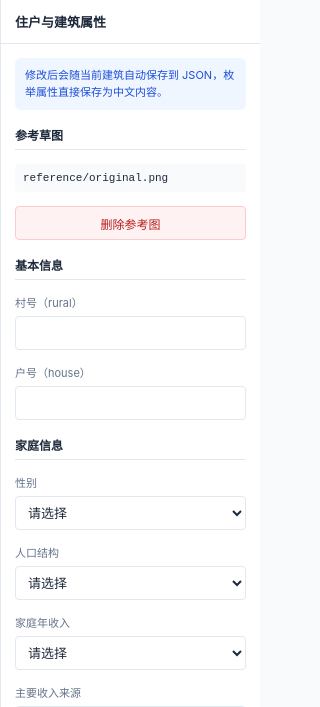
it: EditablePropertyPanel › confirms and removes an existing reference image
The image size is (320, 707).
Click the button "删除参考图" at (130, 223), box [15,206,246,240]
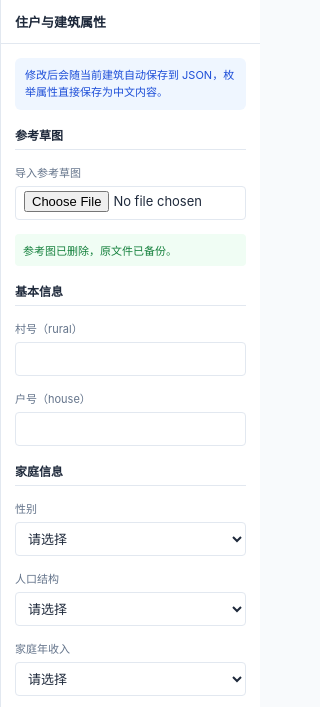
Expected: the text "参考图已删除，原文件已备份。" is shown, [15,234,246,266]
